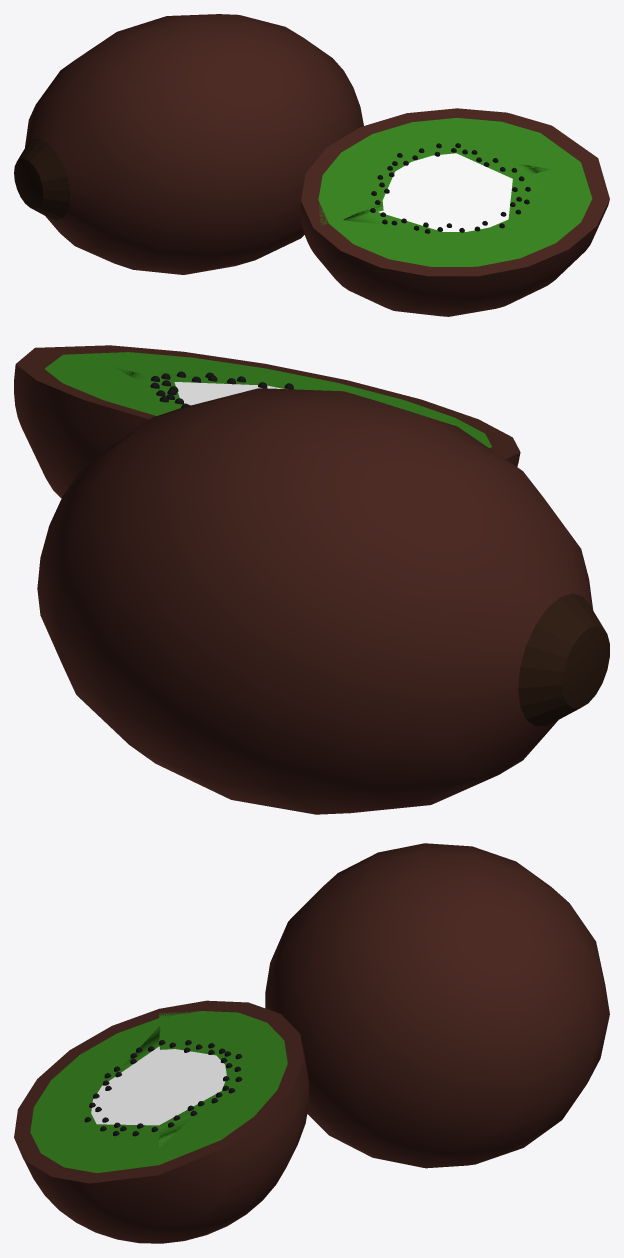
File: Kiwi_226.obj
3 views of the same model, one above another, from view 1: azimuth 30°, elevation 25°; view 2: azimuth 150°, elevation 25°; view 3: azimuth 270°, elevation 25° (orthographic). The views are drawn at different scales.
Visible parts, largest first — view 1: Sphere001, Sphere002; view 2: Sphere001, Sphere002; view 3: Sphere001, Sphere002.
Boxes of the visible parts, bbox=[...] form: Sphere001: bbox=[14, 14, 363, 274]; Sphere002: bbox=[300, 108, 609, 316]; Sphere001: bbox=[37, 388, 609, 814]; Sphere002: bbox=[14, 345, 520, 498]; Sphere001: bbox=[265, 843, 609, 1168]; Sphere002: bbox=[14, 1000, 309, 1243].
Bounding box in the file's own units: 40.18 × 19.01 × 37.83.
